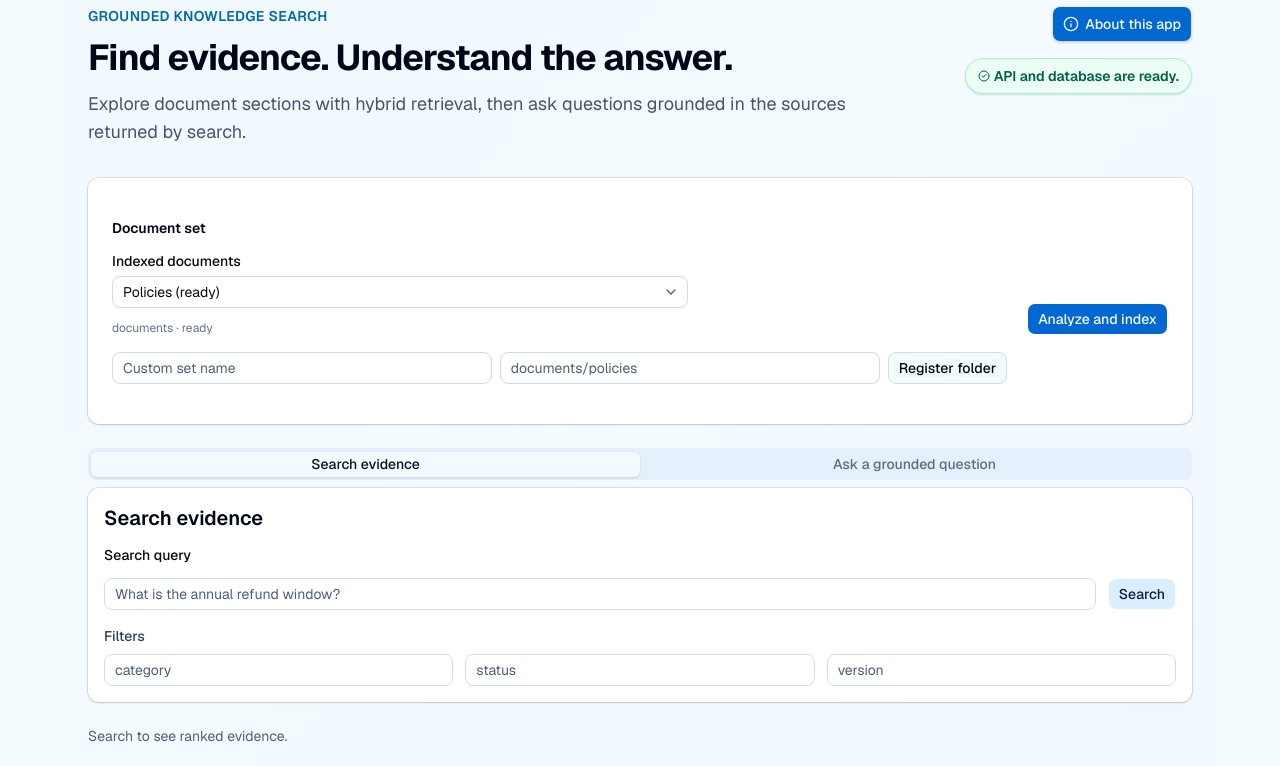
Scenario: KnowledgeSearchApp › renders source fallbacks when line ranges are missing
Expected: the dropdown named "Indexed documents" is shown, [112, 276, 688, 308]
Click the tab "Ask a grounded question".
click(914, 464)  # box [640, 452, 1189, 476]
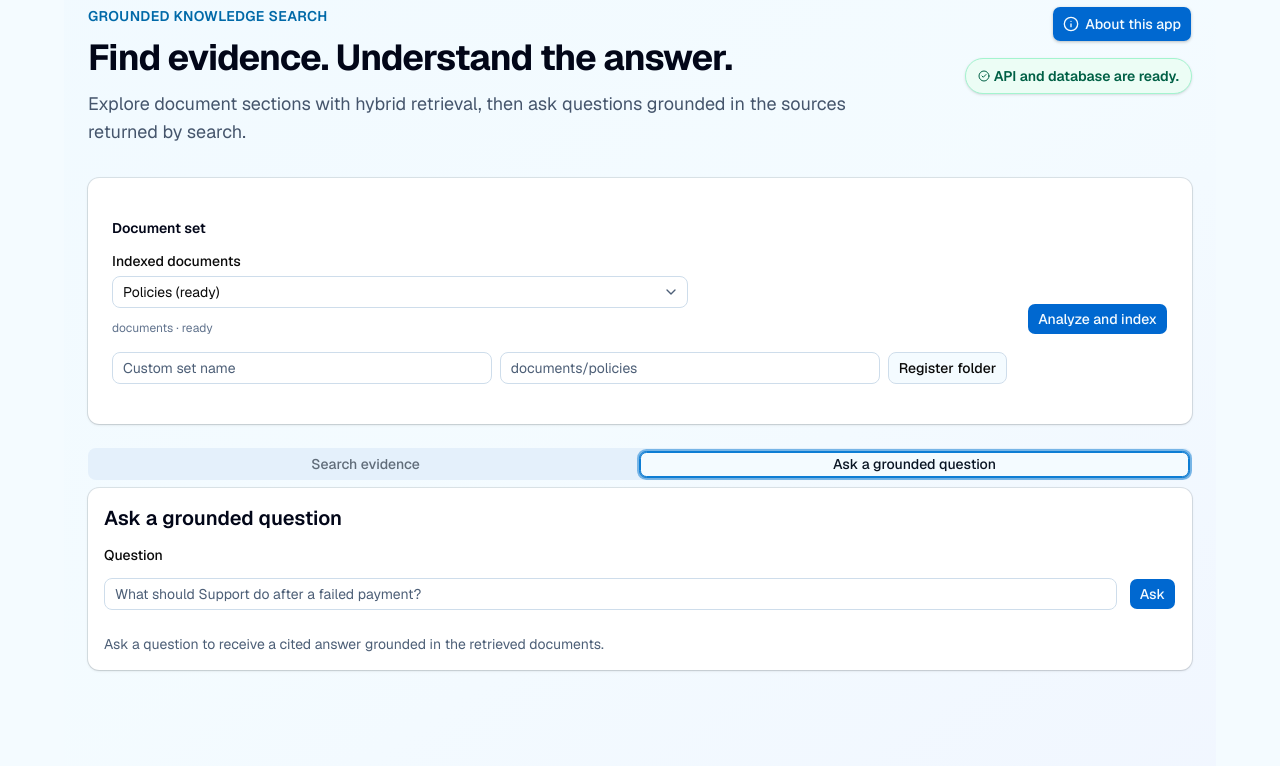
Type "What is the rule?" into the field labelled "Question".
click(610, 594); type("What is the rule?")  # box [104, 578, 1117, 610]
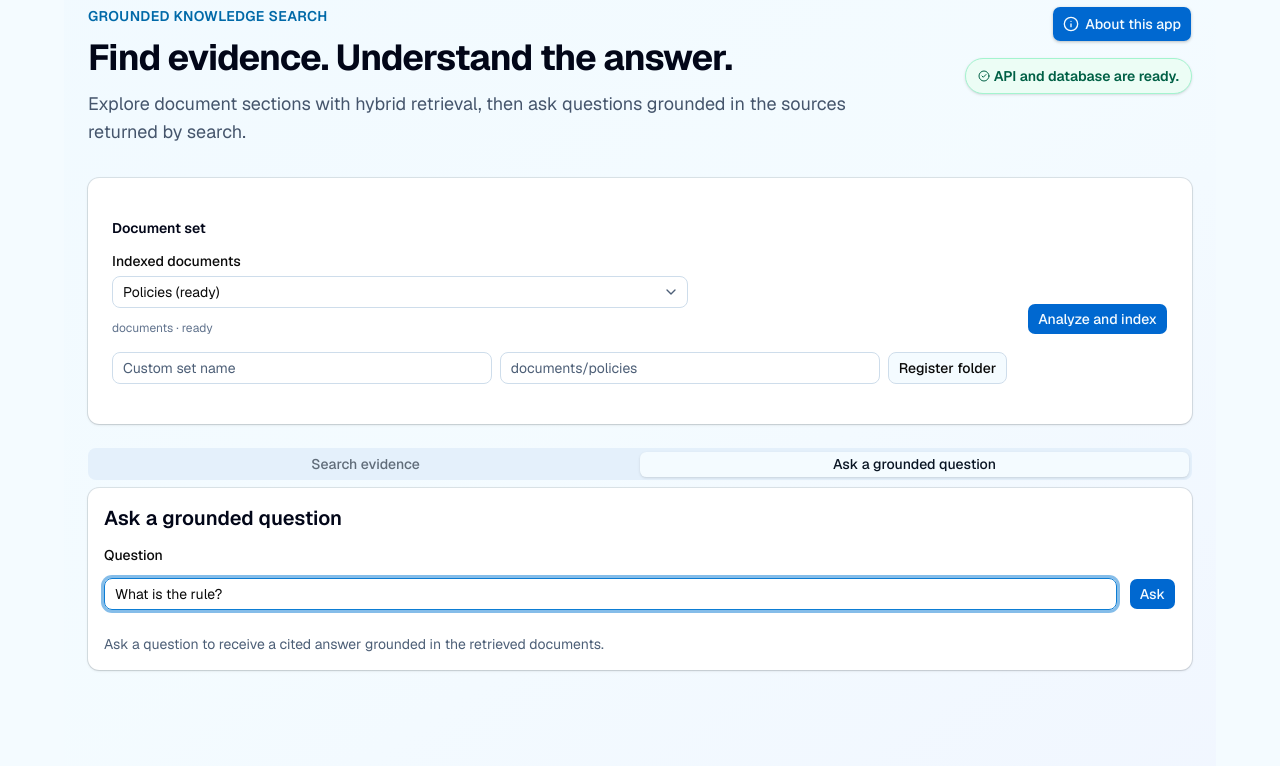
Click the button "Ask".
click(1152, 594)  # box [1129, 578, 1176, 610]
(page scrolled)
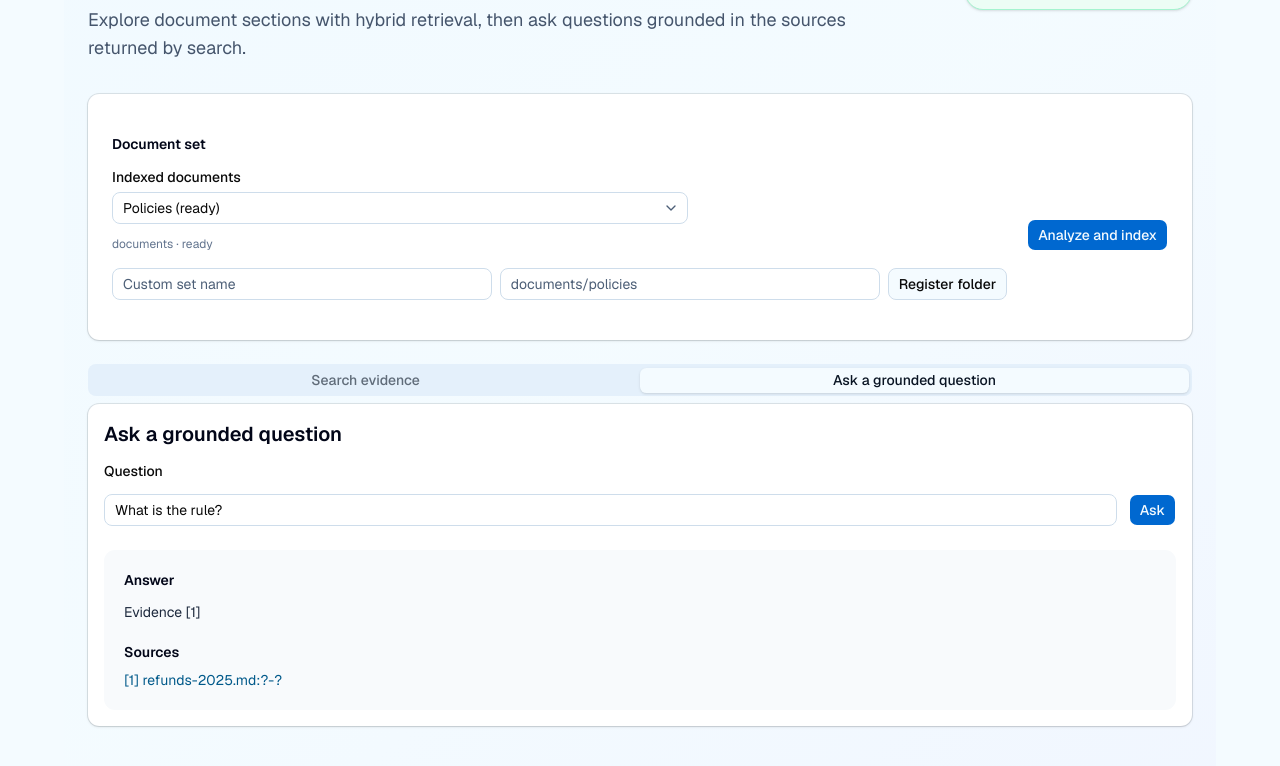
Expected: the button "[1] refunds-2025.md:?-?" is shown, [124, 670, 282, 690]
